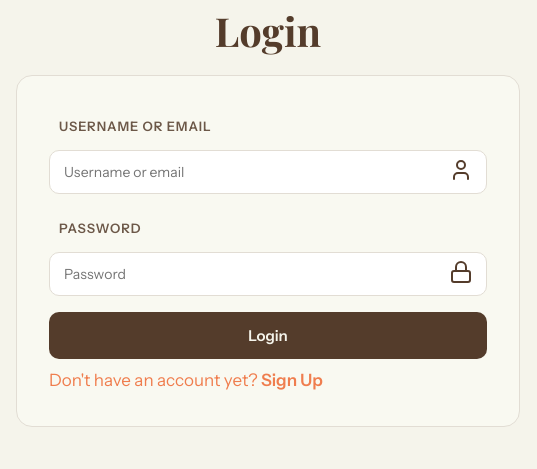
Test: Login Page › shows an error message when the user is unsuccessful in loging in
Type "test@email.com" into the field with placeholder "Username or email". click: (268, 172)
box: [49,150,487,194]
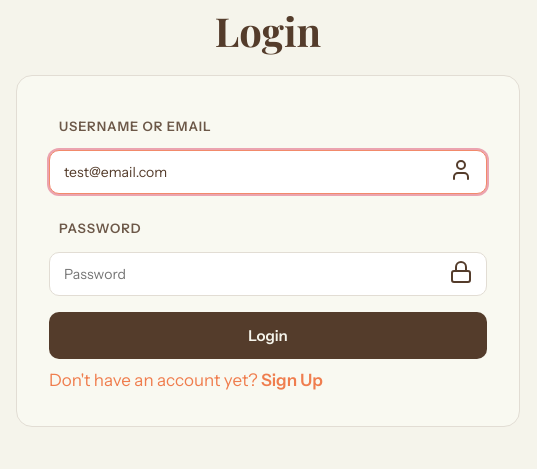
Type "password1234" into the password field with placeholder "Password". click: (268, 274)
box: [49,252,487,296]
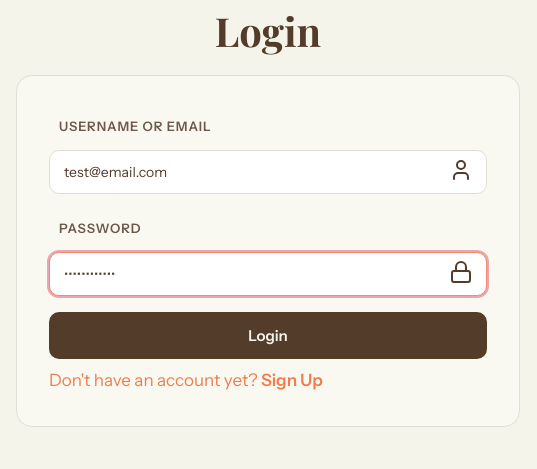
Click the button "Login". click: (268, 336)
box: [49,312,487,359]
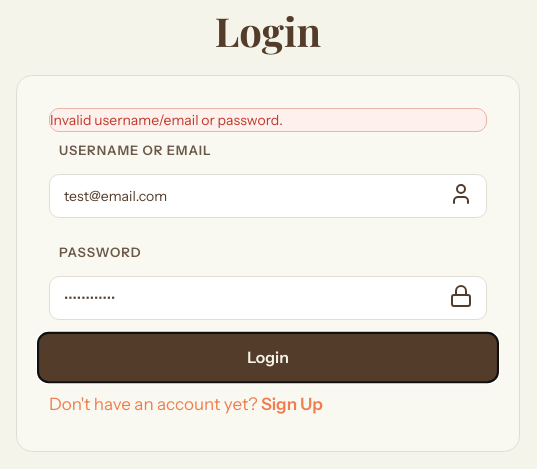
Result: the text "Invalid username/email or password." is shown at [49,108,487,132]
